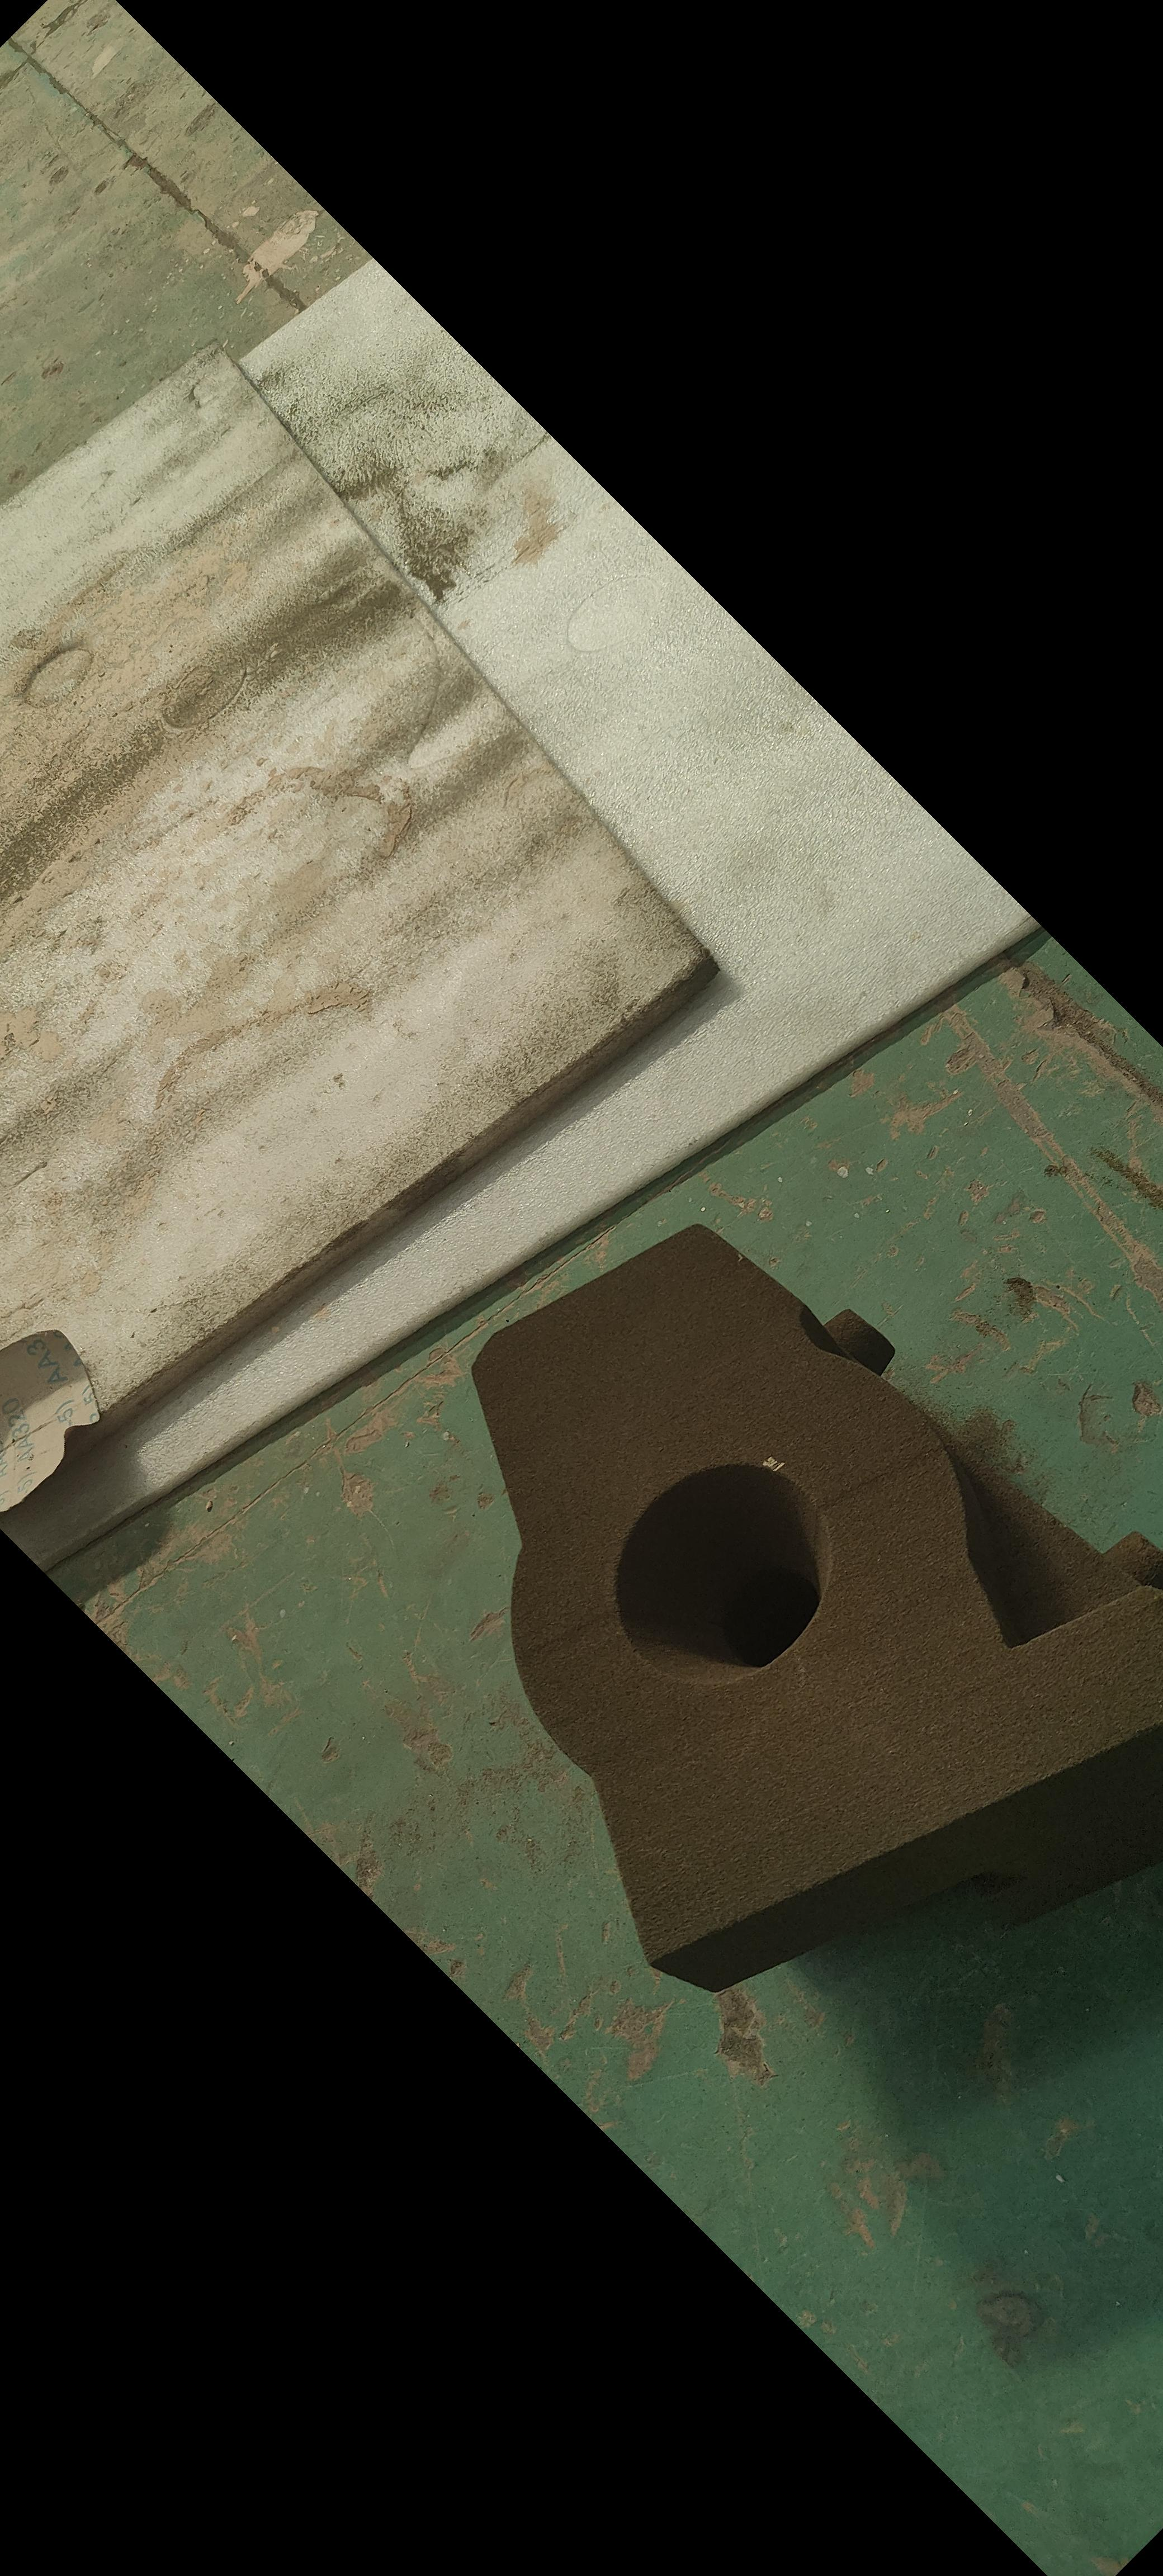pouring hole: (614, 1464, 830, 1689)
